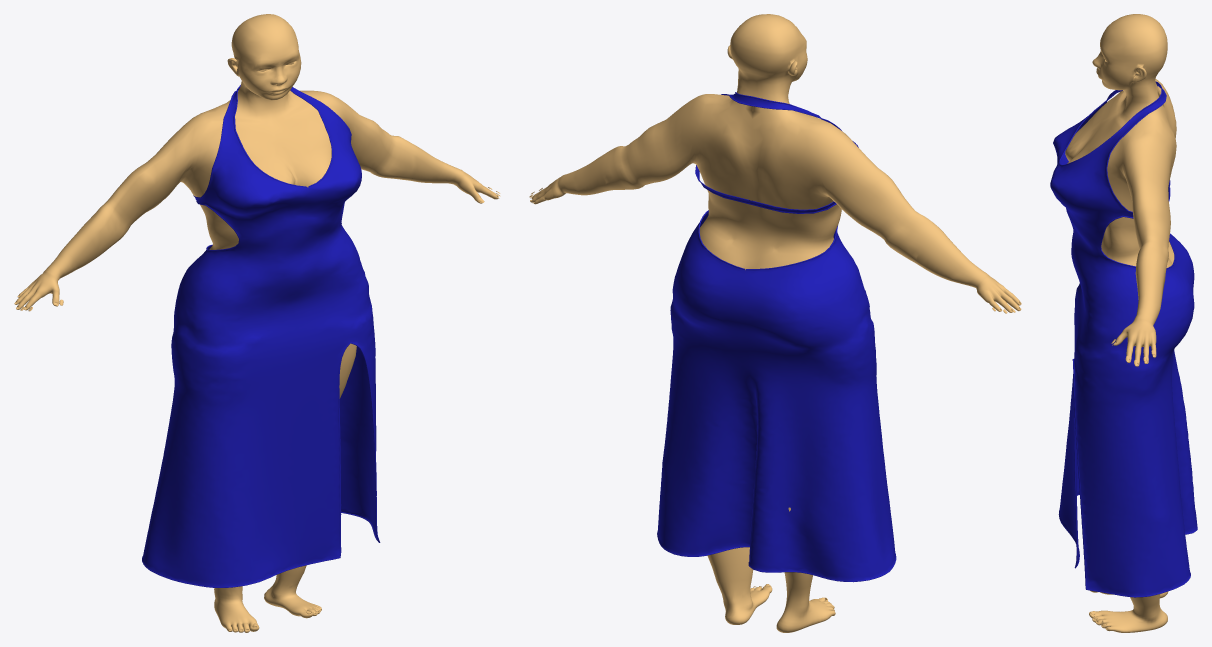
Rendered from dress9.glb.
3 renders of one model, left to right at view 1: azimuth 30°, elevation 25°; view 2: azimuth 150°, elevation 25°; view 3: azimuth 270°, elevation 25°, orthographic.
Visible parts, largest first — view 1: EveningDress, Body; view 2: EveningDress, Body; view 3: EveningDress, Body.
Boxes of the visible parts, x1=… form: EveningDress: x1=142, y1=85, x2=380, y2=587; Body: x1=14, y1=14, x2=499, y2=632; EveningDress: x1=657, y1=92, x2=896, y2=582; Body: x1=530, y1=14, x2=1021, y2=632; EveningDress: x1=1050, y1=81, x2=1197, y2=597; Body: x1=1065, y1=14, x2=1176, y2=632.
Size of the model in its own units: 1.59 by 1.88 by 0.4195.
